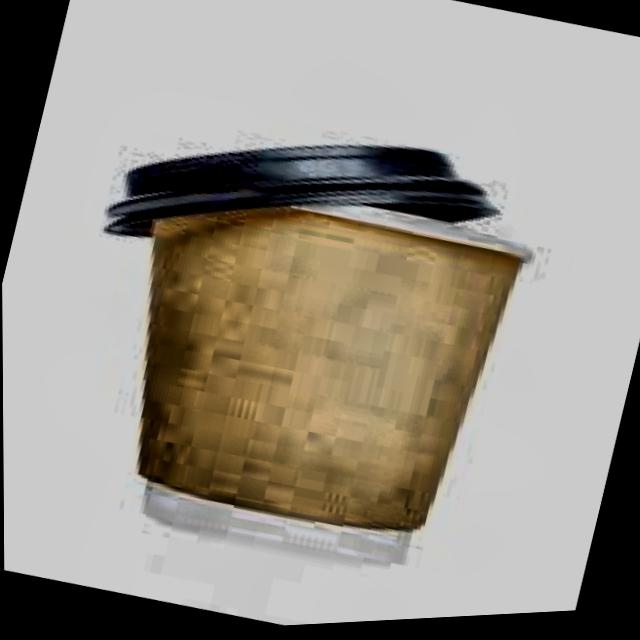Cup: (36, 122, 547, 616)
